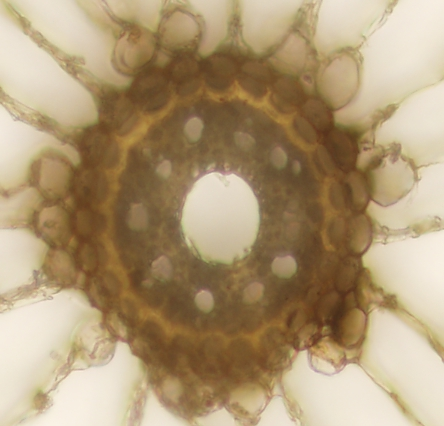lm: (181, 171, 260, 265)
